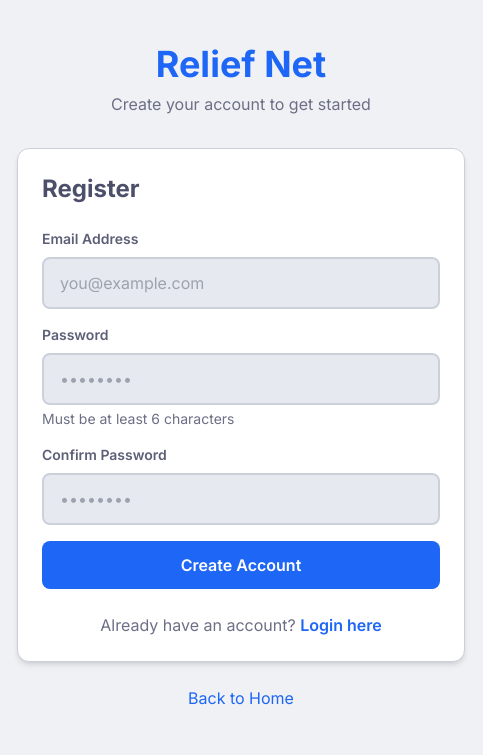
Register Page - Account Creation Tests › Form Validation › should show error when password is less than 6 characters
The width and height of the screenshot is (483, 755).
Step 1. Type "test@example.com" into the field labelled "Email Address" → (241, 283), box [42,257,440,309]
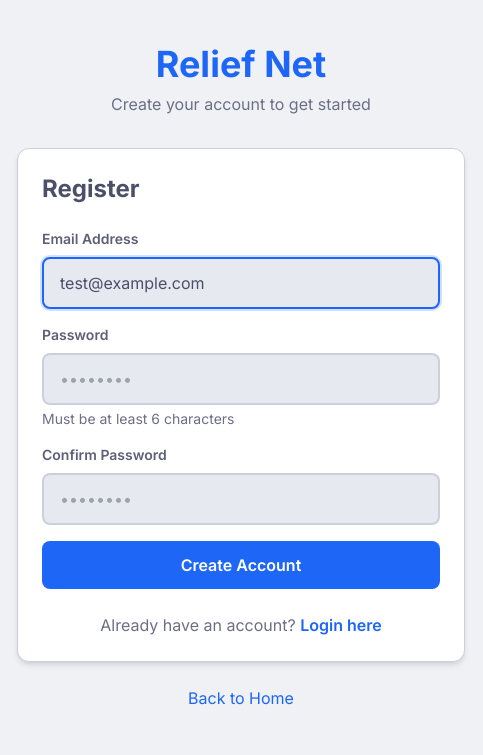
Step 2. Type "12345" into the password field labelled "Password" → (241, 379), box [42,353,440,405]
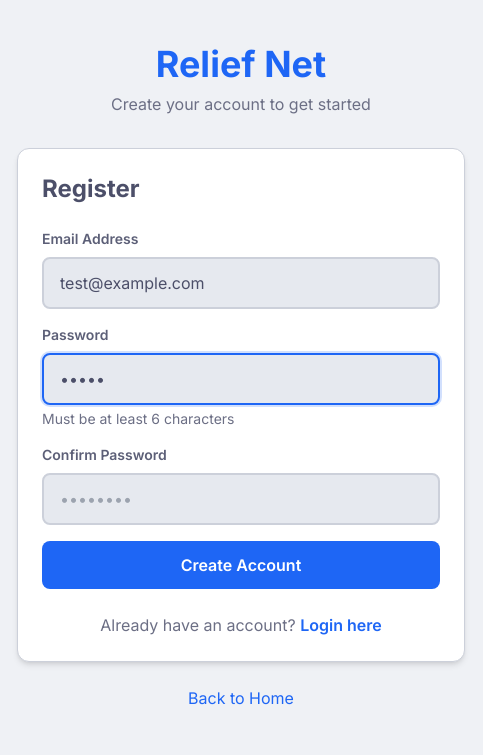
Step 3. Type "12345" into the password field labelled "Confirm Password" → (241, 499), box [42,473,440,525]
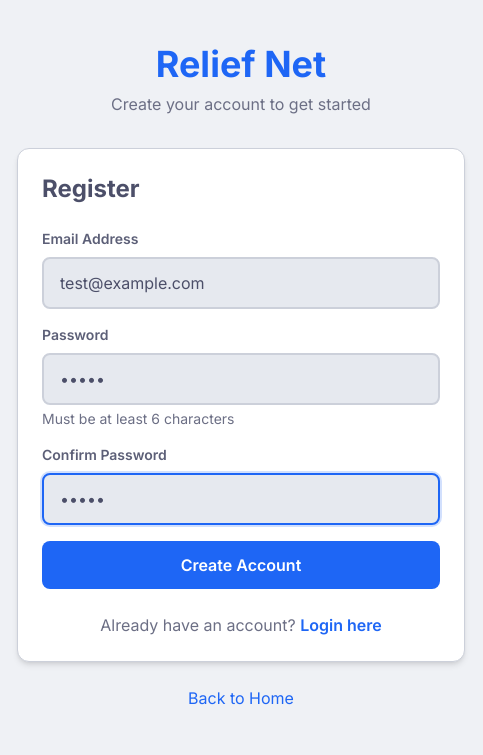
Step 4. Click the button "Create Account" → (241, 565), box [42,541,440,589]
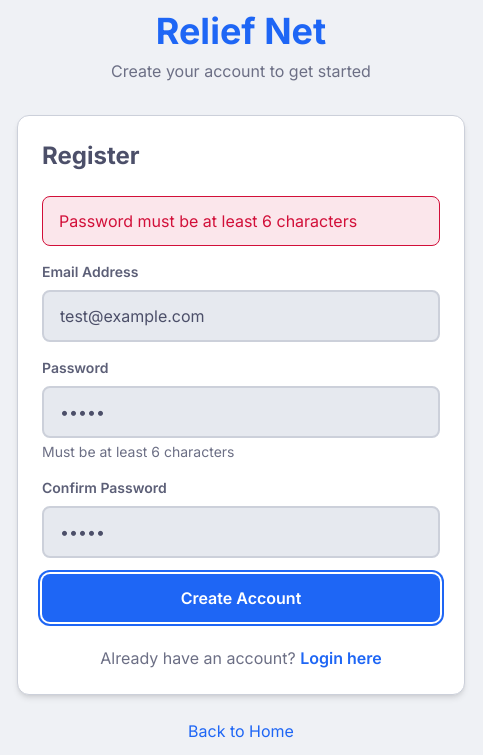
Now the text "Password must be at least 6 characters" is shown, box [42,196,440,246]
